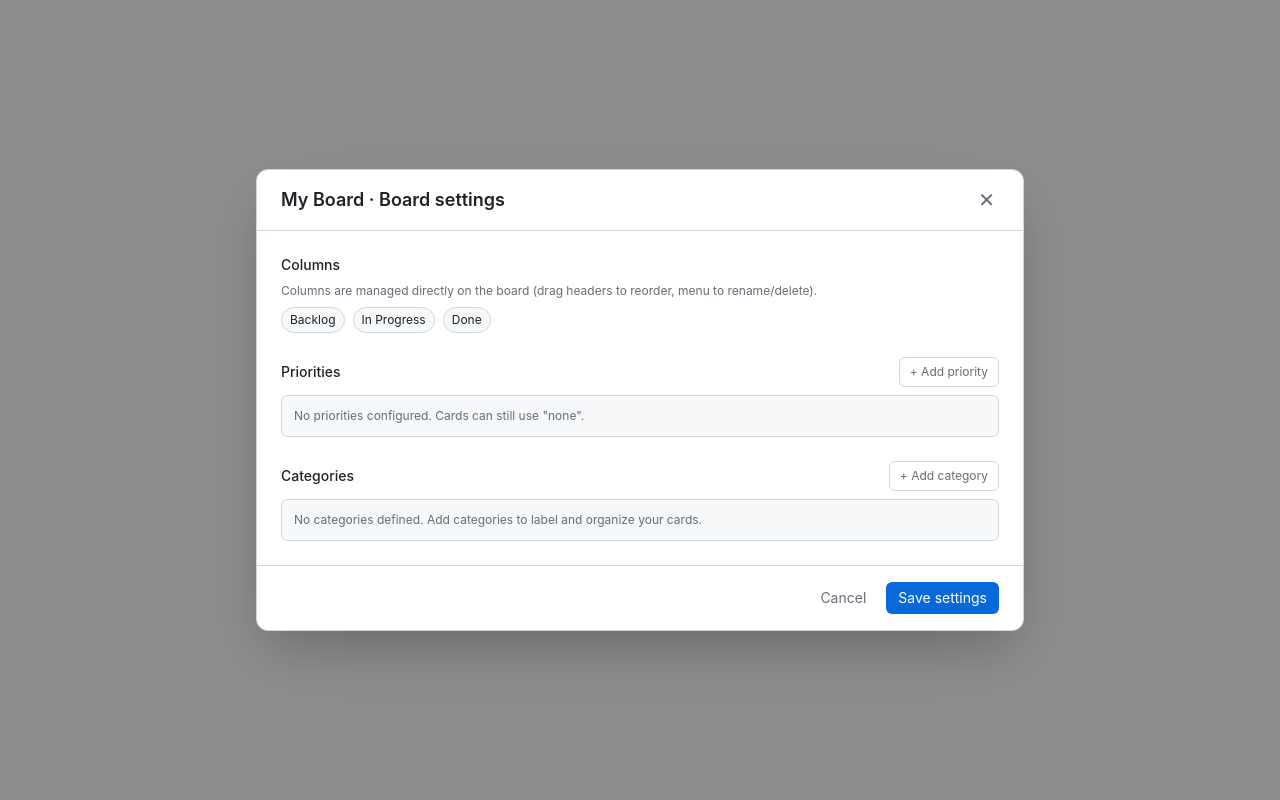
Test case: add priority › second add generates unique ID
Click the button "+ Add priority".
click(949, 372)  # box 899,357 -> 999,387
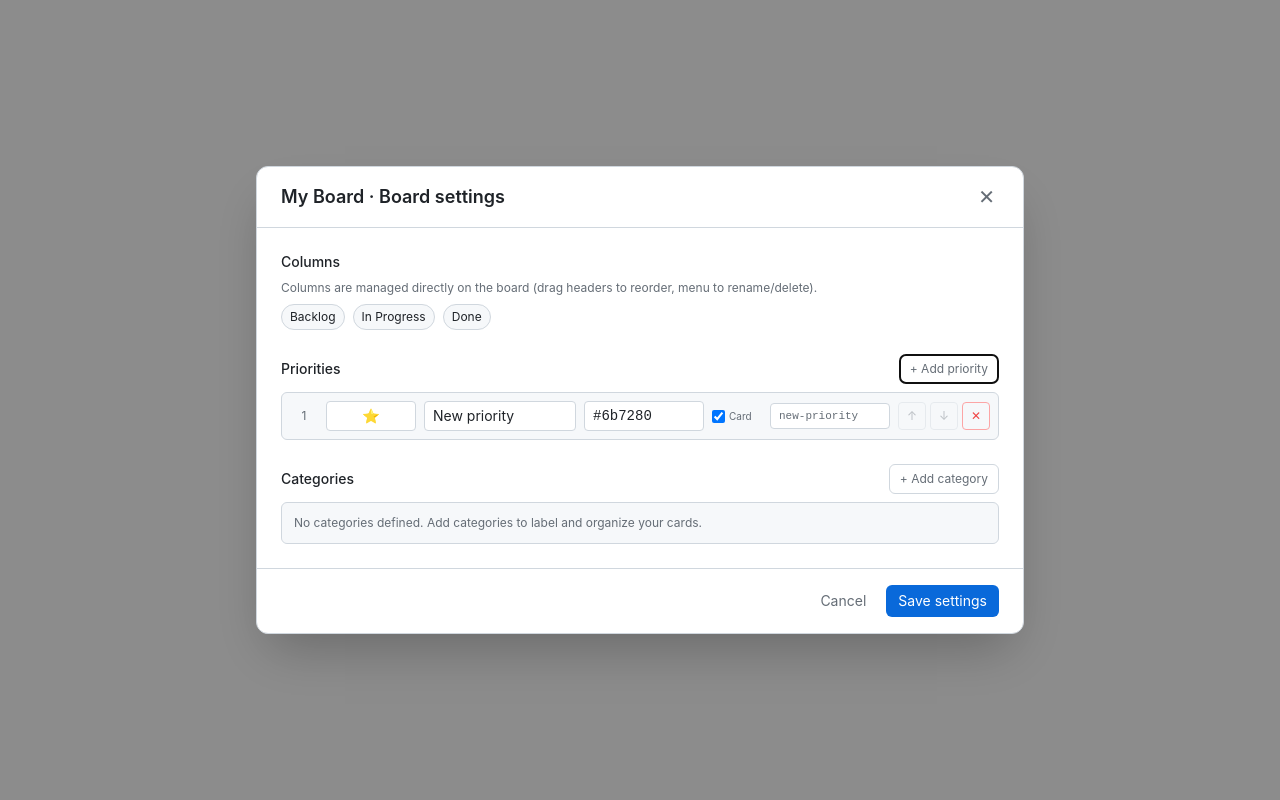
Click the button "+ Add priority".
click(949, 369)  # box 899,354 -> 999,384
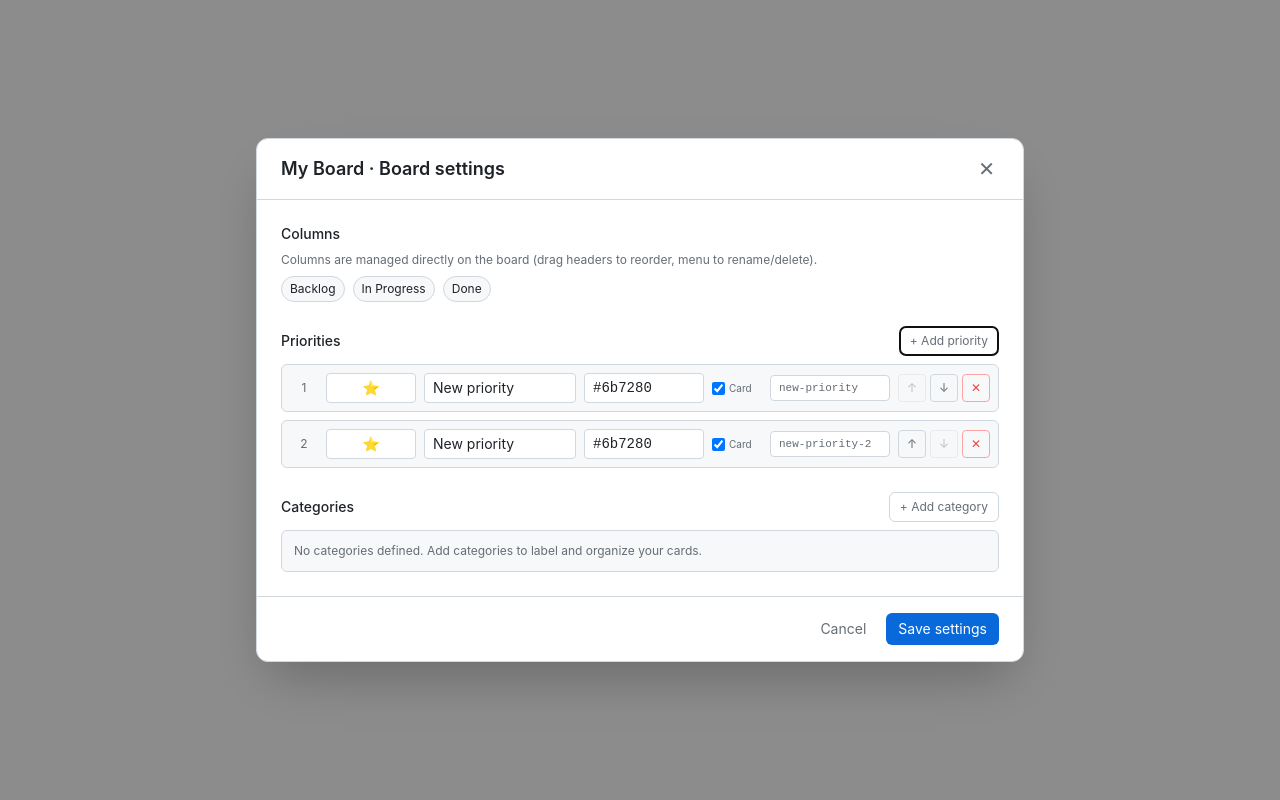
Expected: the text "new-priority" is shown, 770,375 -> 890,401
Expected: the number of fields with placeholder "Priority label" is 2, 424,373 -> 576,403; 424,429 -> 576,459
Expected: the text "new-priority-2" is shown, 770,431 -> 890,457
